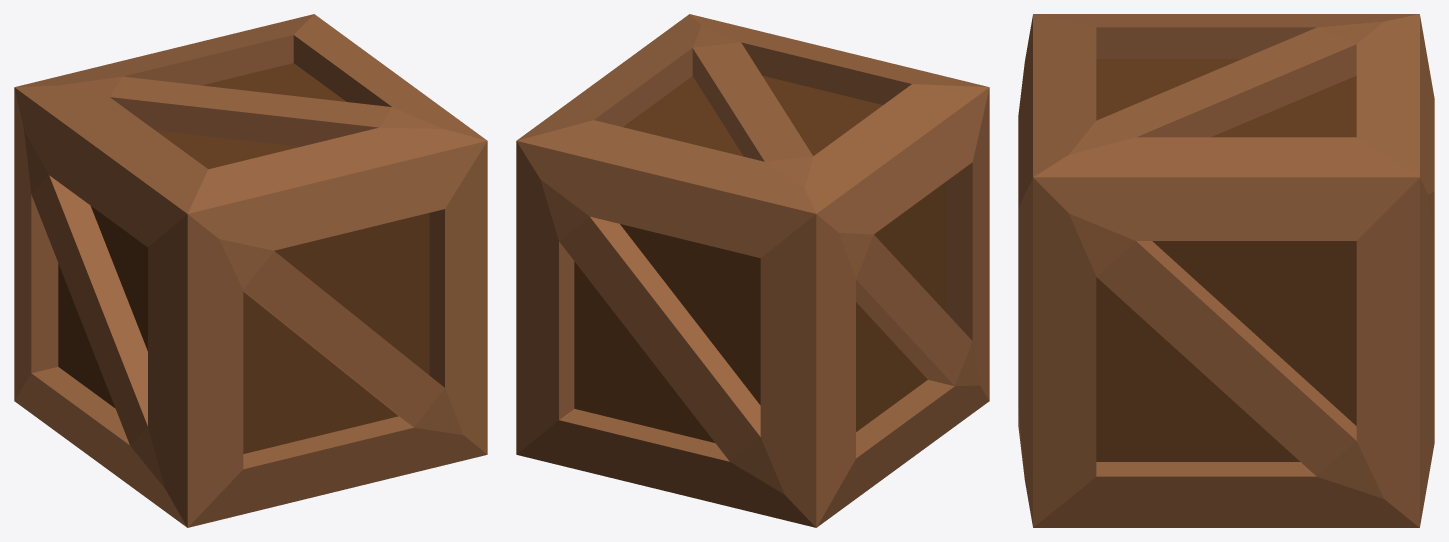
File: Caixa.fbx
3 renders of one model, left to right at view 1: azimuth 30°, elevation 25°; view 2: azimuth 150°, elevation 25°; view 3: azimuth 270°, elevation 25°, orthographic. The views are drawn at different scales.
Visible parts, largest first — view 1: Cube; view 2: Cube; view 3: Cube.
Part boxes in pixels (bbox=[...]): Cube: bbox=[14, 14, 487, 527]; Cube: bbox=[516, 14, 989, 527]; Cube: bbox=[1018, 14, 1434, 527].
Size of the model in its own units: 2.4 by 2.4 by 2.4.
